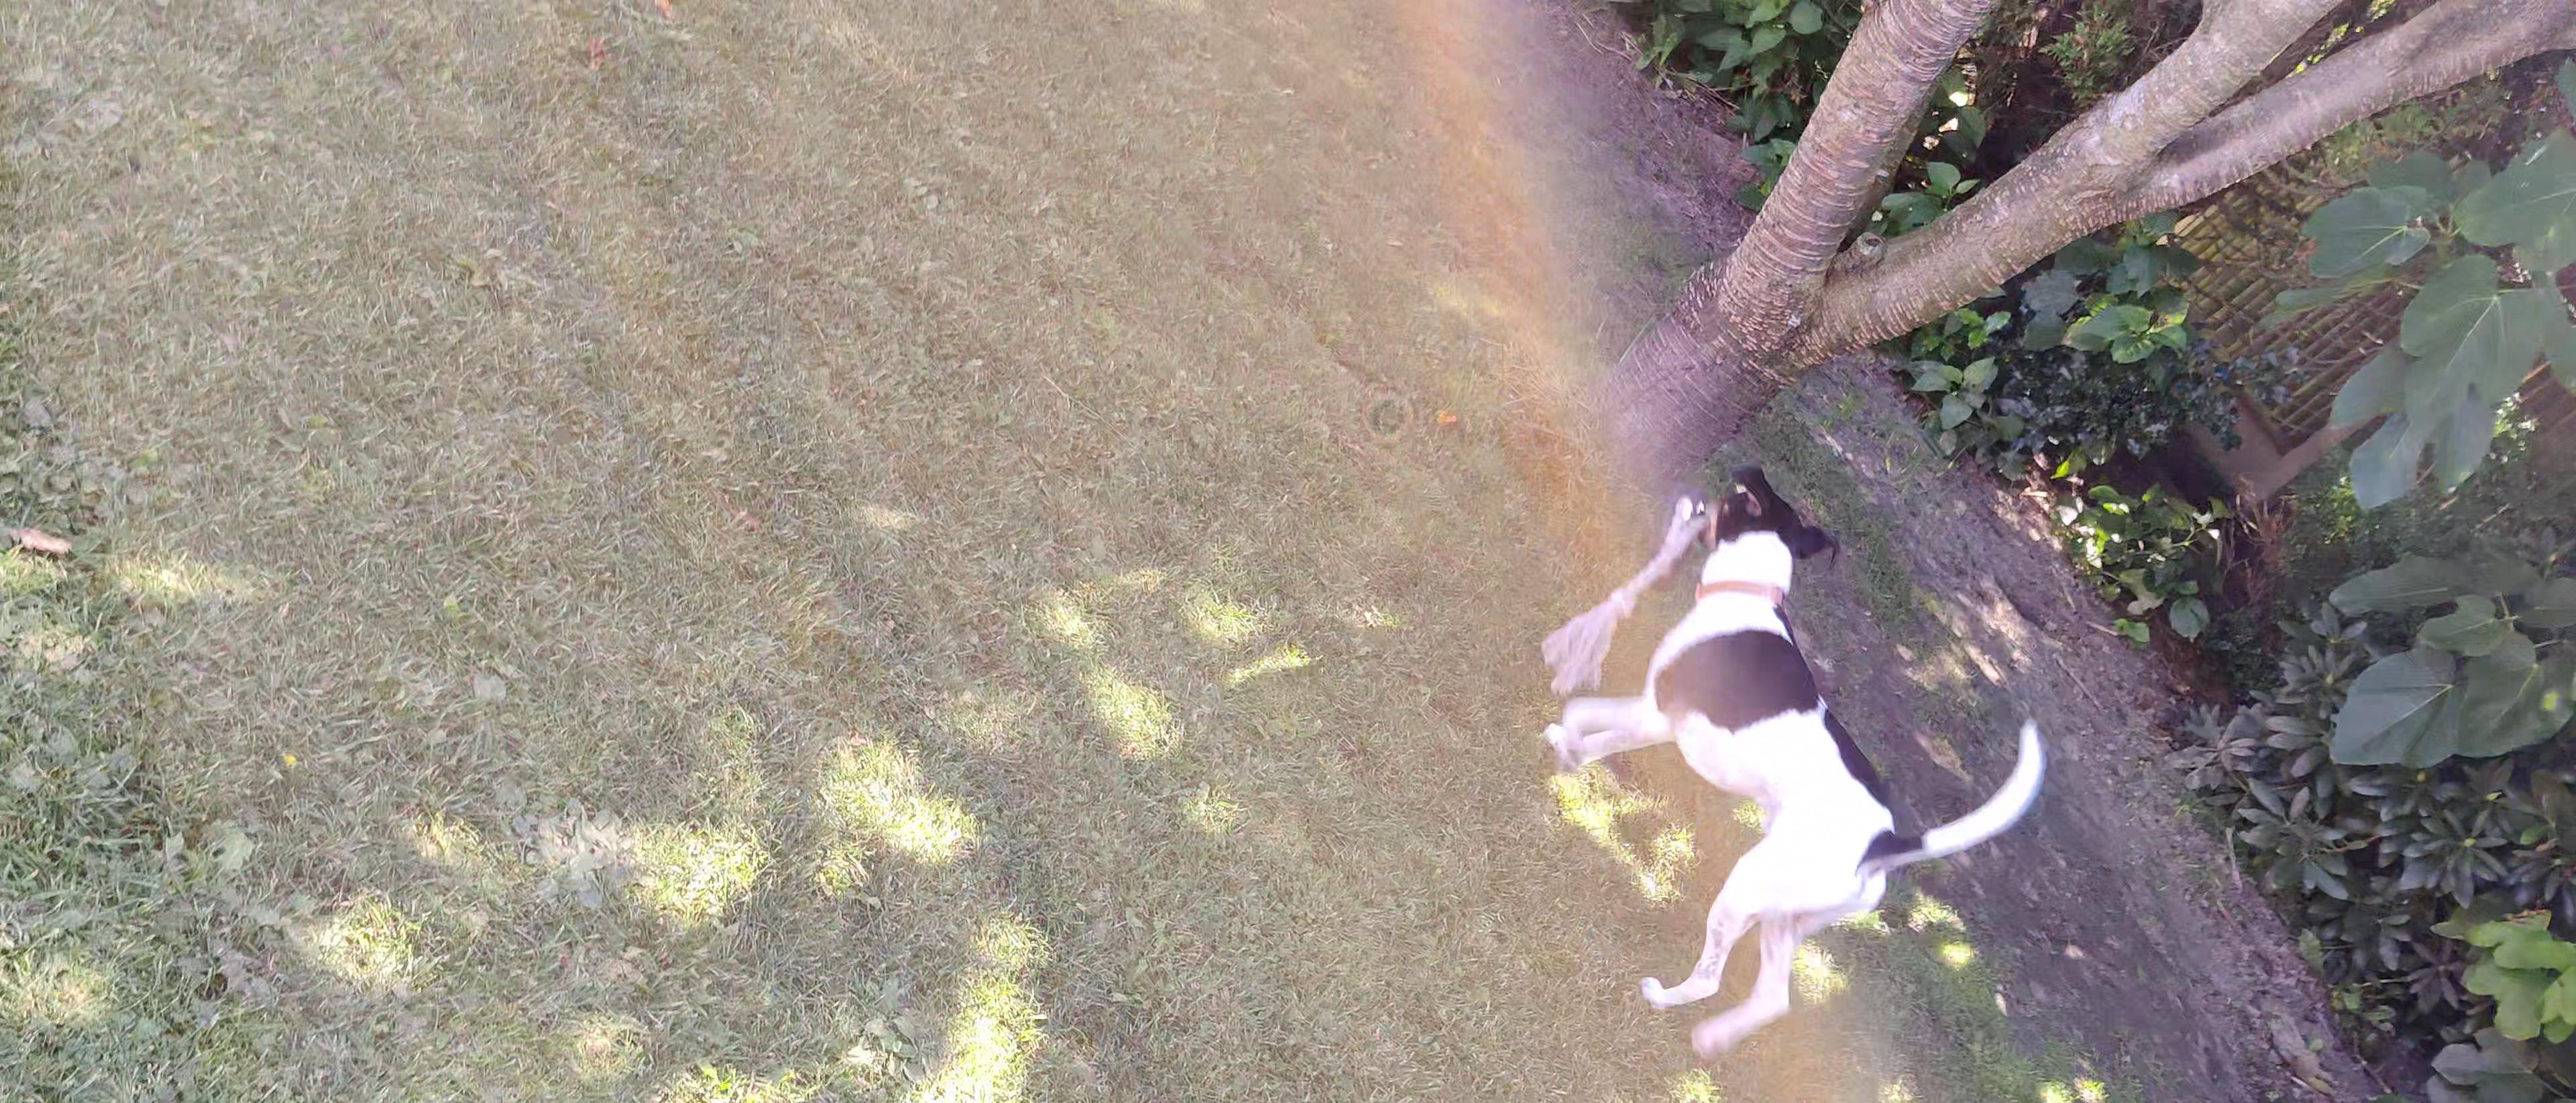Dog: (1521, 455, 2052, 1059)
